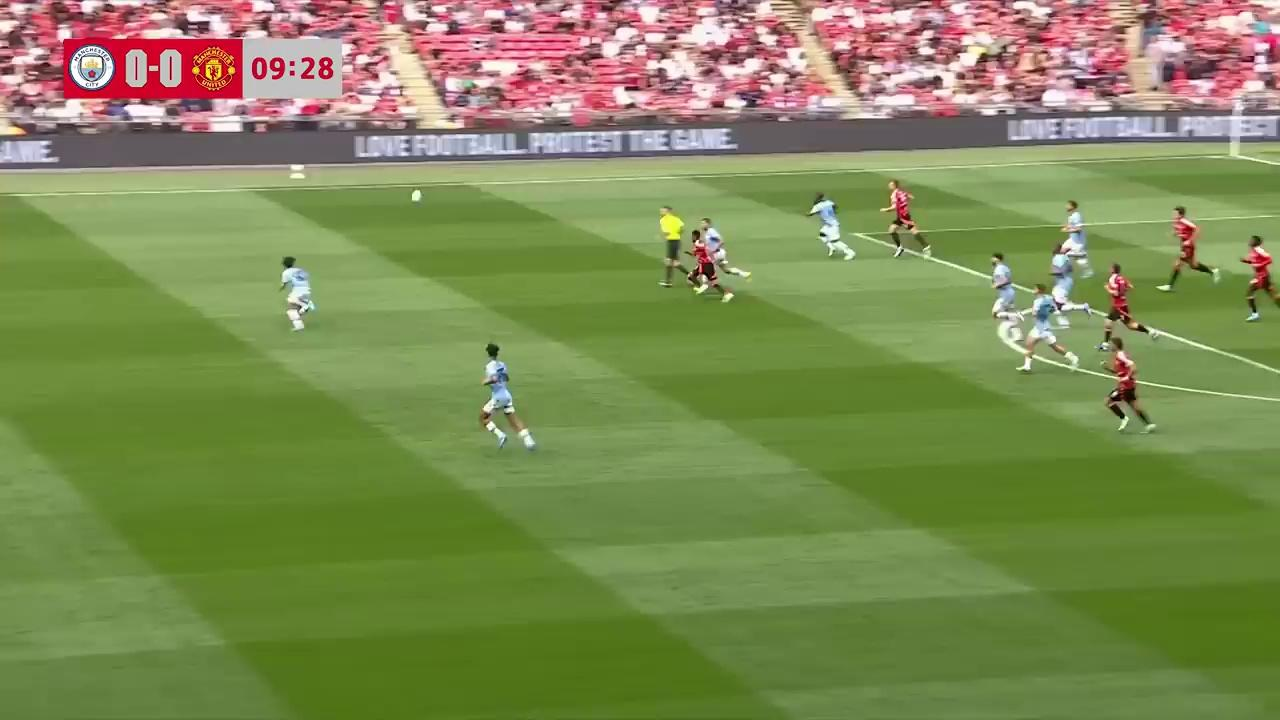ball: (410, 186, 422, 204)
player: (478, 343, 536, 451), (1016, 283, 1076, 372), (1102, 339, 1155, 433), (1165, 206, 1220, 288), (690, 217, 746, 291), (688, 228, 741, 303), (1098, 262, 1144, 348), (883, 182, 932, 258), (1239, 235, 1279, 321), (807, 192, 856, 260), (1049, 241, 1085, 331), (279, 257, 315, 331), (1058, 200, 1090, 275), (990, 252, 1017, 336)
referee: (658, 205, 689, 288)
